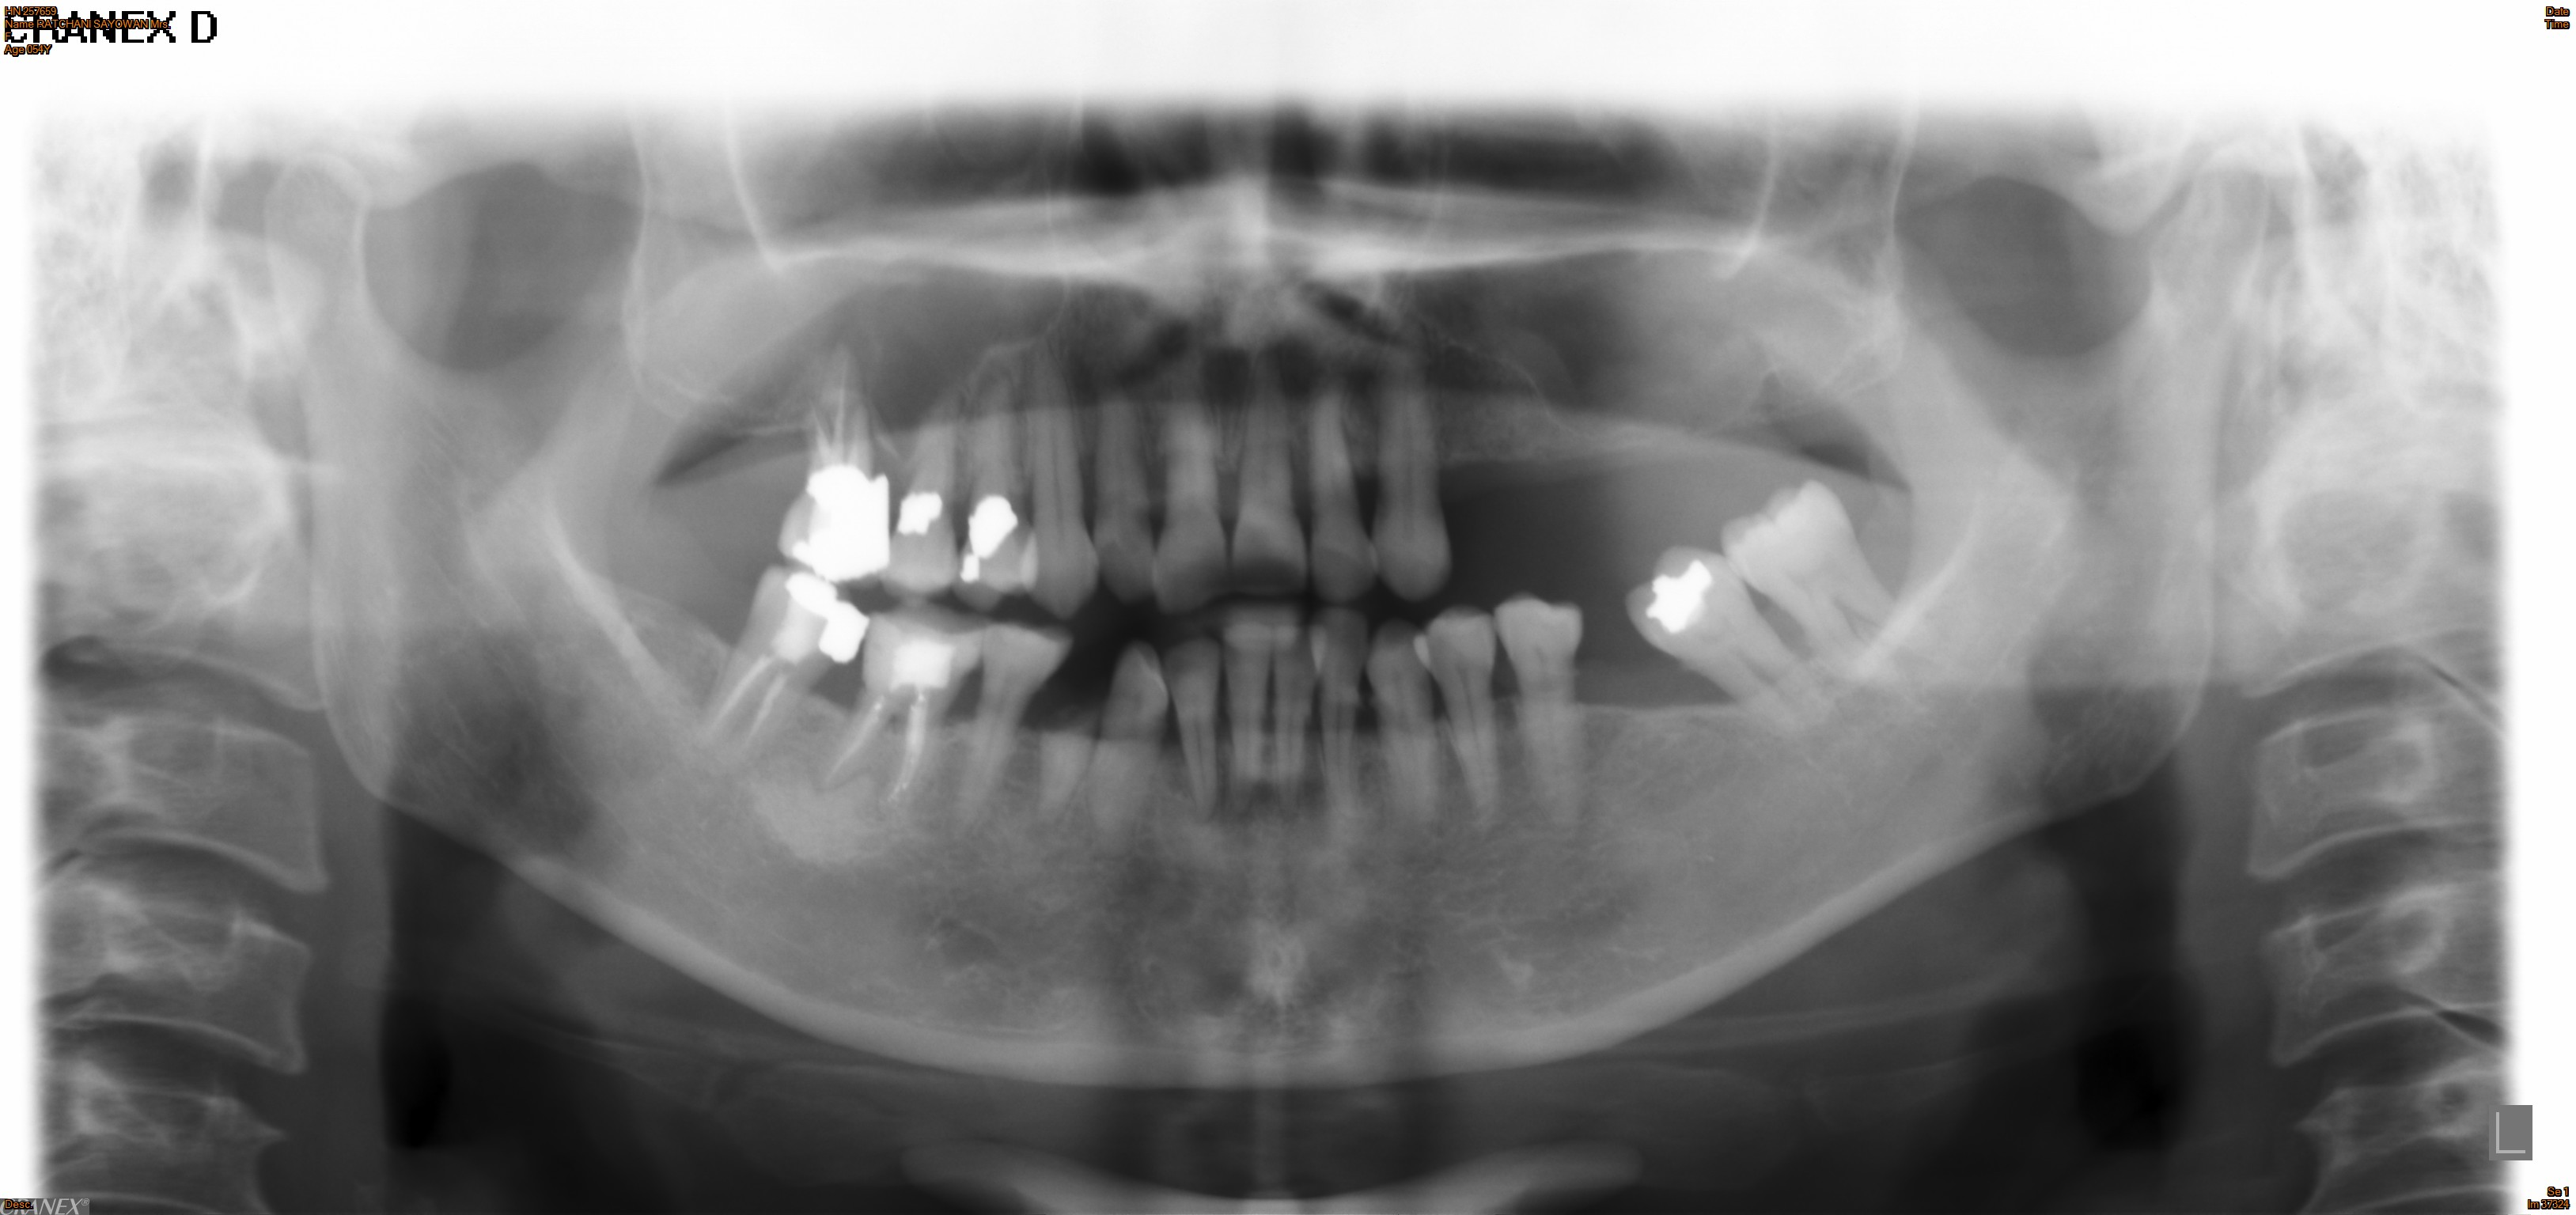periodontitis: (1712, 475, 1935, 716), (1620, 534, 1842, 745), (675, 558, 869, 767), (810, 604, 994, 811), (766, 333, 902, 581), (946, 603, 1088, 829), (1359, 346, 1460, 607), (881, 368, 974, 607)
